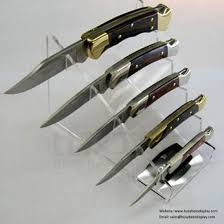knife: (3, 1, 173, 98), (124, 121, 214, 210)
